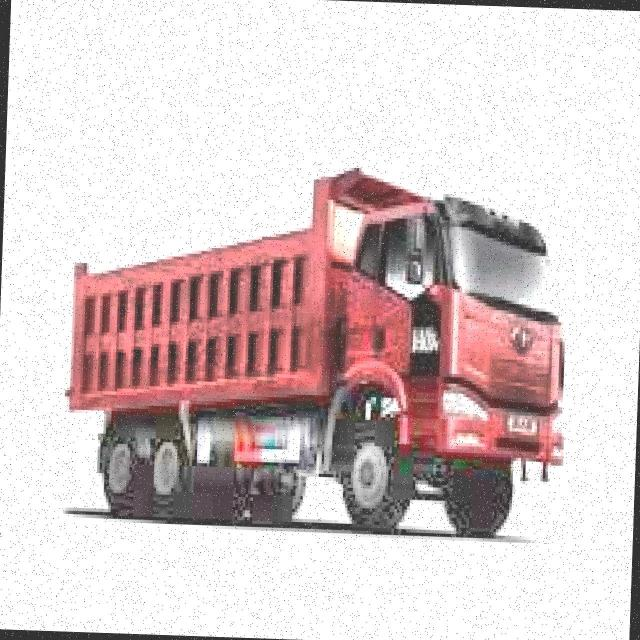dump_truck: (62, 146, 576, 550)
